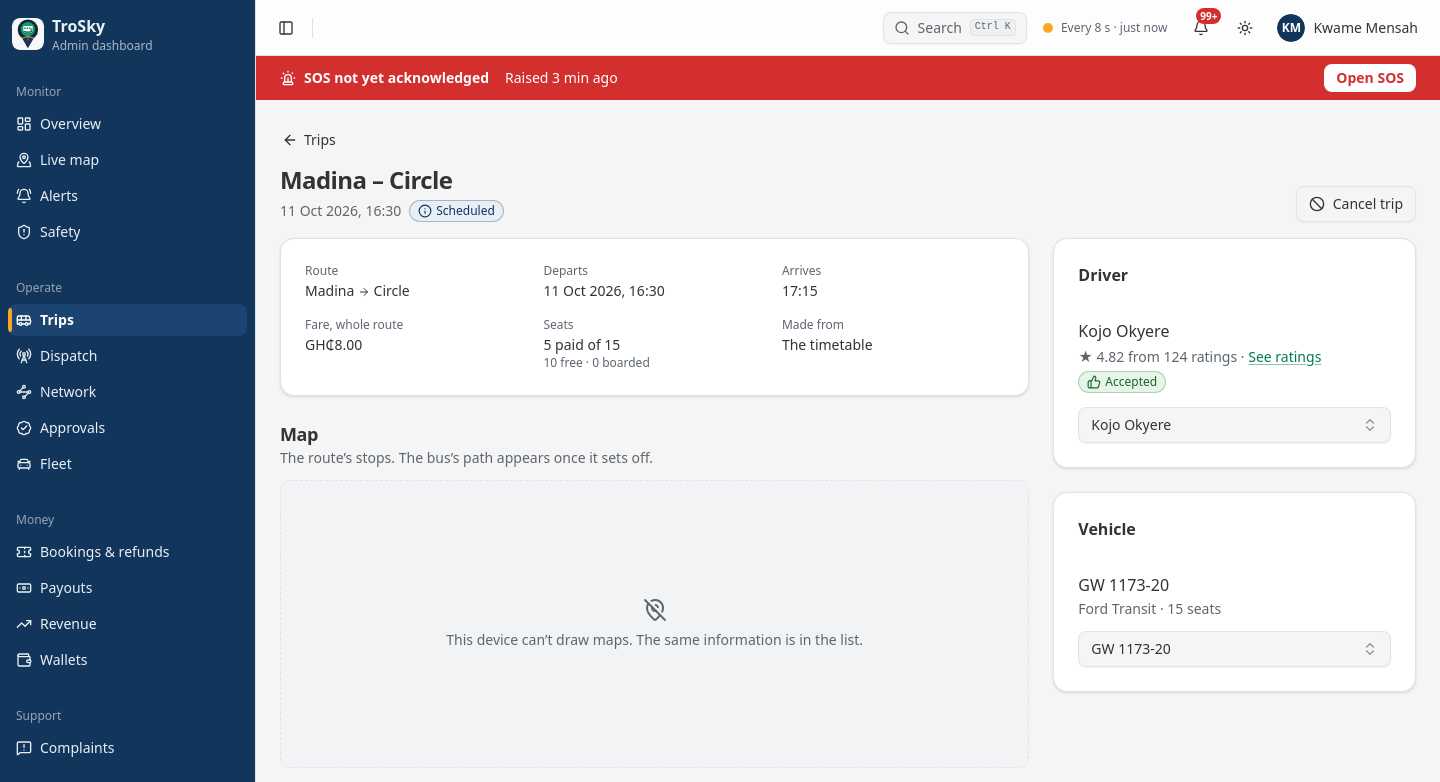
Test: A trip › is cancelled with a reason, and says what happened to its bookings
Click the button "Cancel trip" at x=1356, y=204, box [1296,186,1416,222]
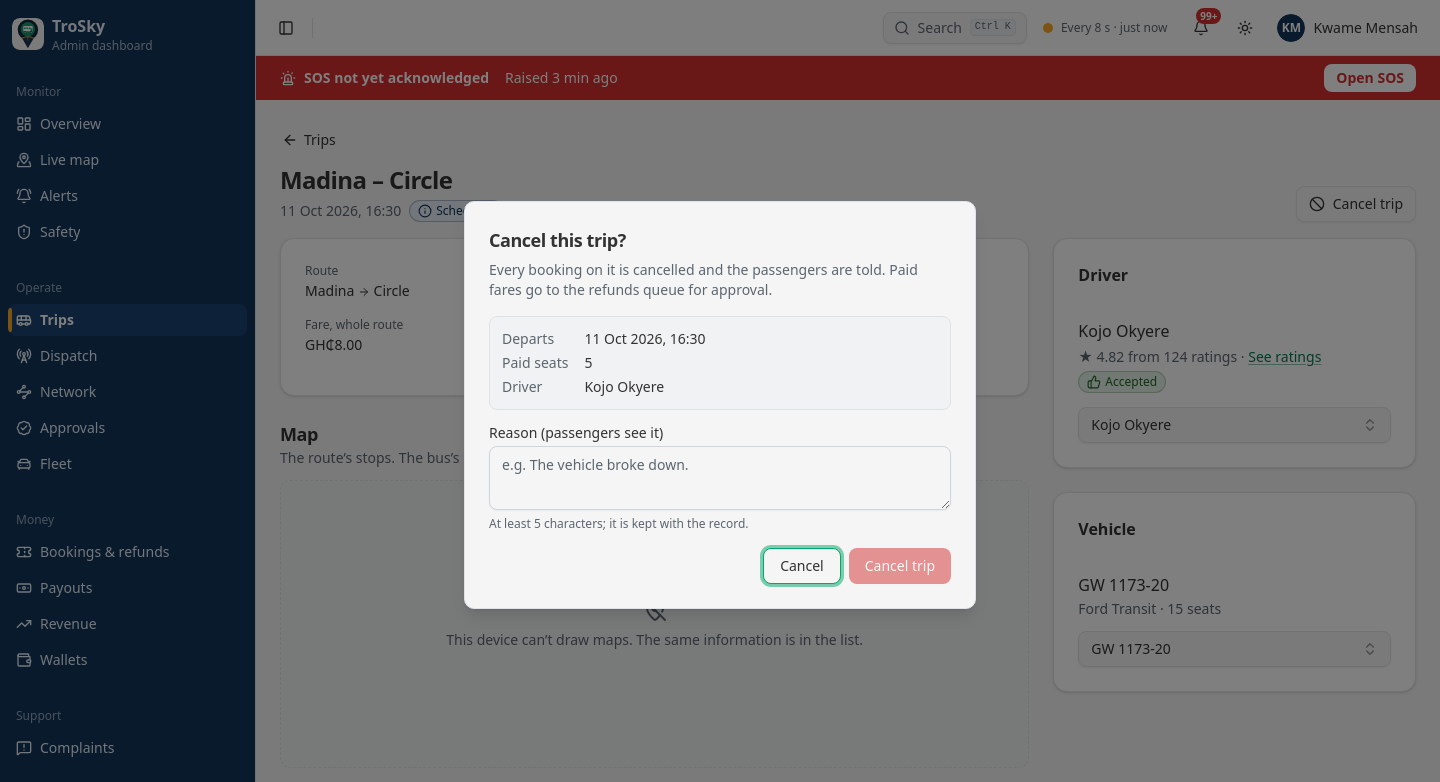
Type "The vehicle broke down." into the text box labelled "Reason (passengers see it)" at x=720, y=478, box [489,446,951,510]
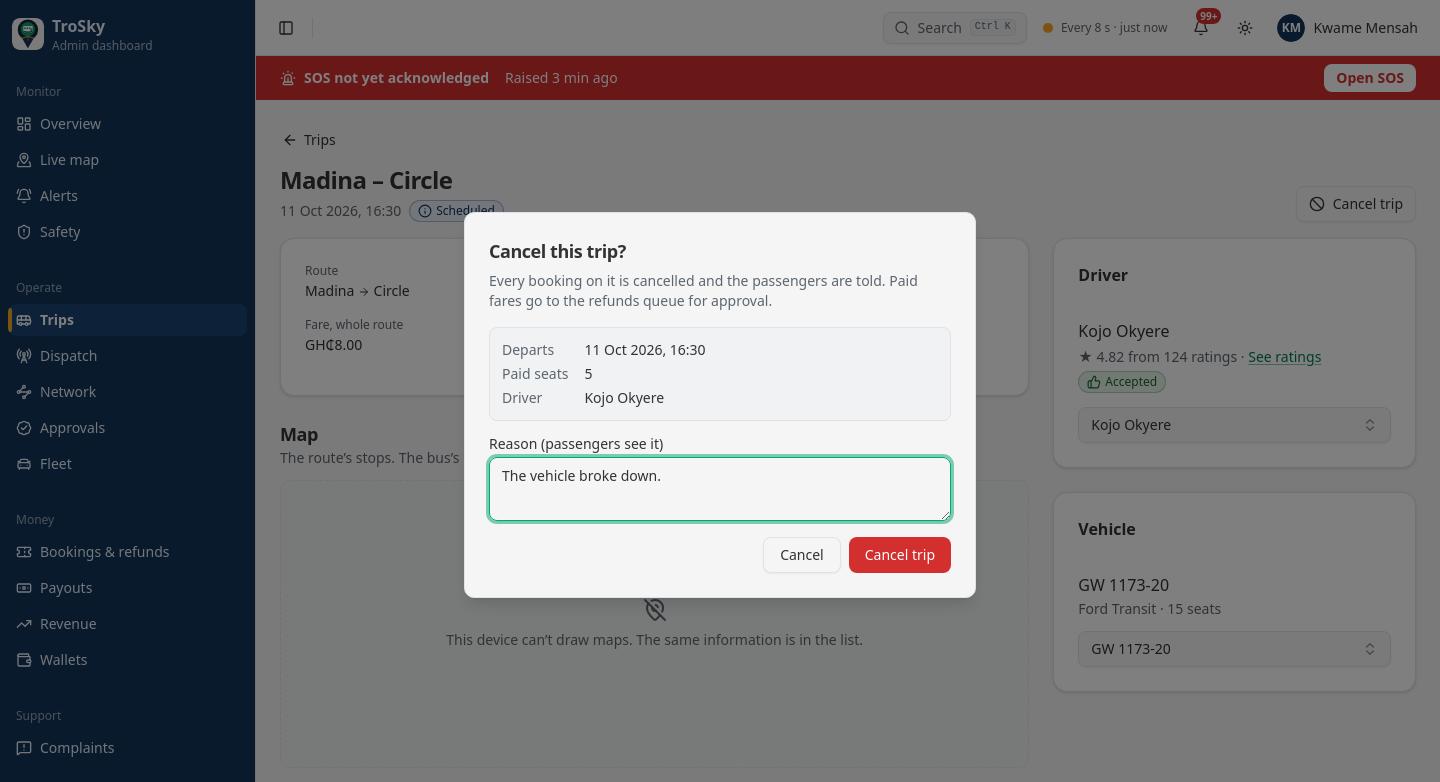
Click the button "Cancel trip" at x=900, y=555, box [849,537,951,573]
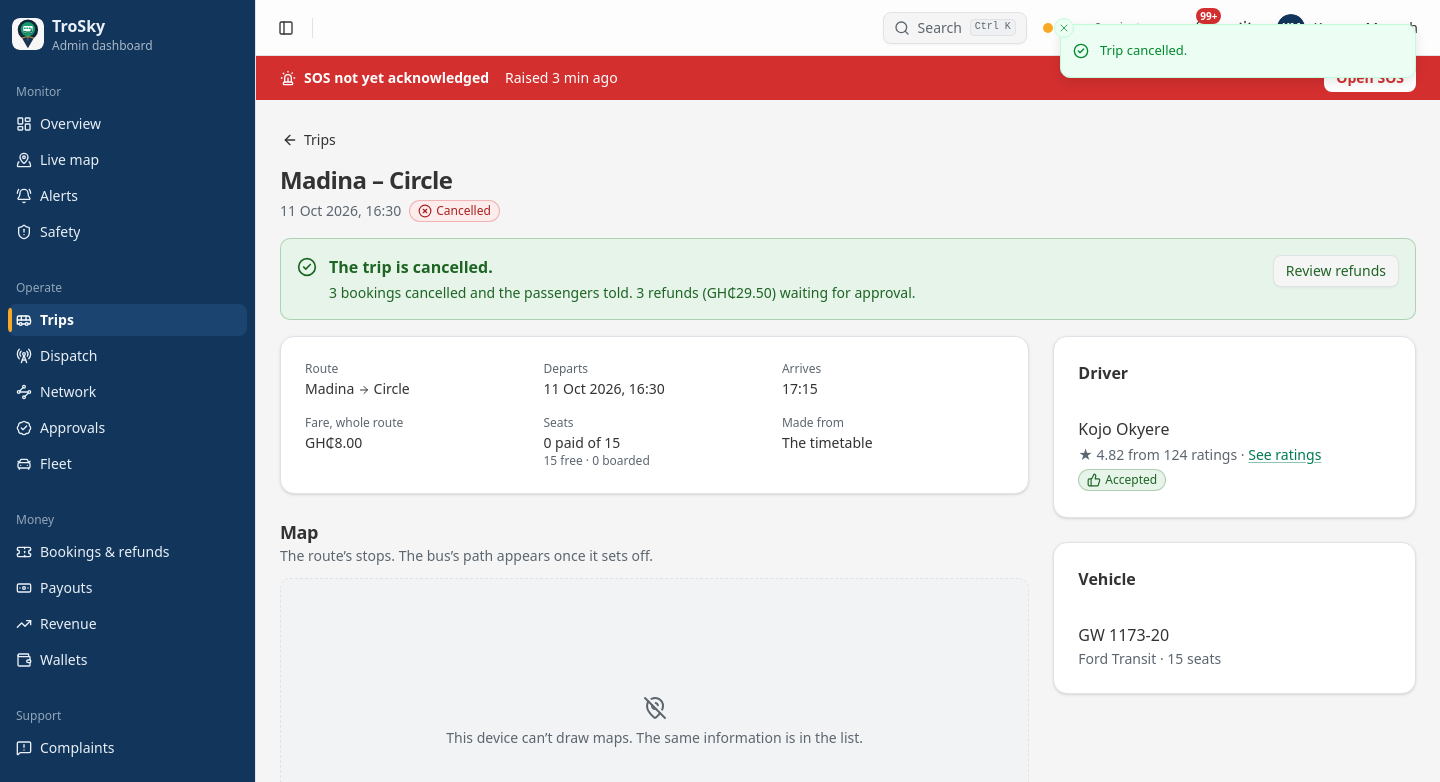
Check: the text "The trip is cancelled." is shown, box [329,256,493,278]
Check: the text "waiting for approval" is shown, box [636,283,916,302]
Check: the text "Cancelled" is shown, box [409,200,500,222]
